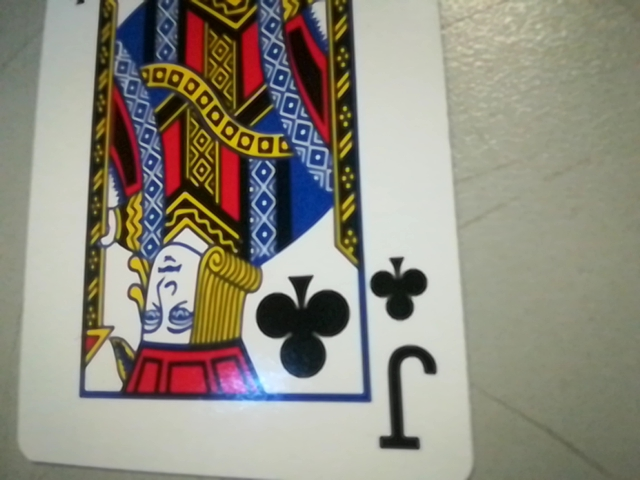mh j: (355, 244, 454, 465)
